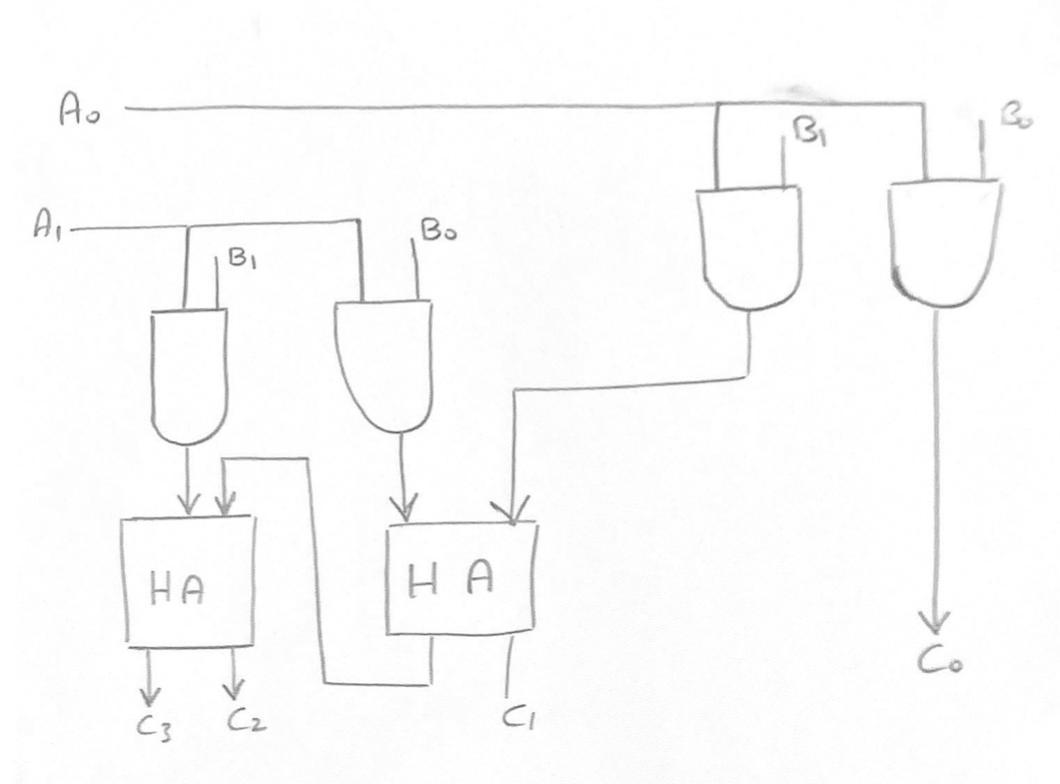AND: (317, 283, 463, 441), (876, 167, 1011, 318), (683, 170, 814, 324), (137, 294, 250, 452)
